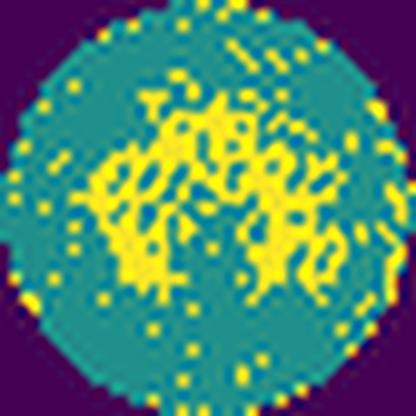Donut: (56, 61, 359, 313)
